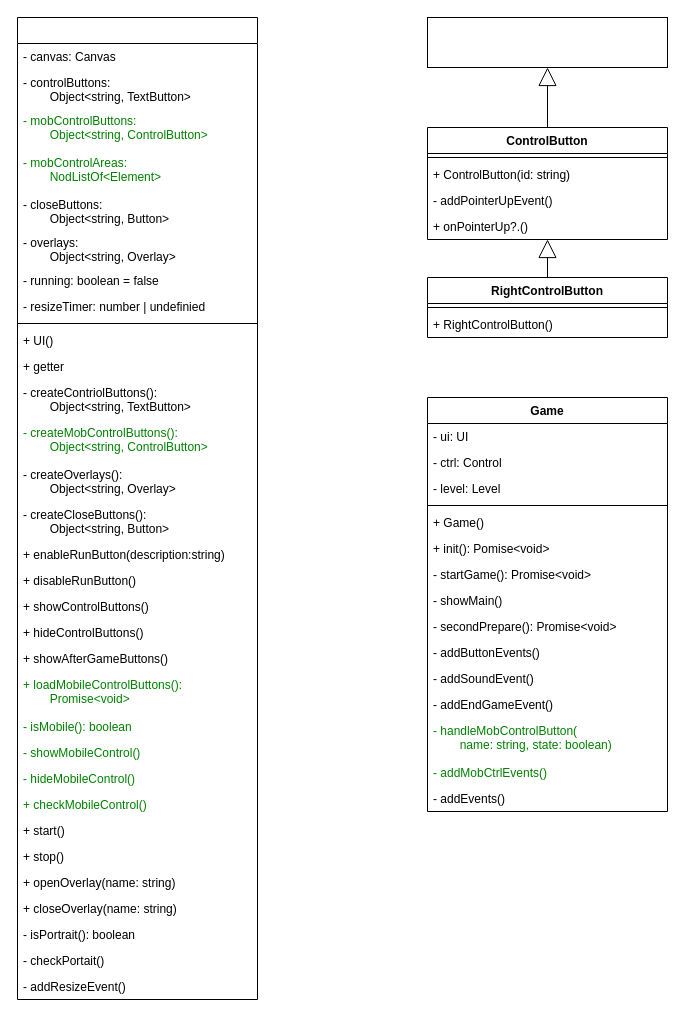
This 685x1020 diagram has some shape labels left out. Here are the shapes that lost their labels. From the top down, the box of each, then its label:
(426, 16, 668, 68): IconButton
(16, 16, 258, 1000): UI
